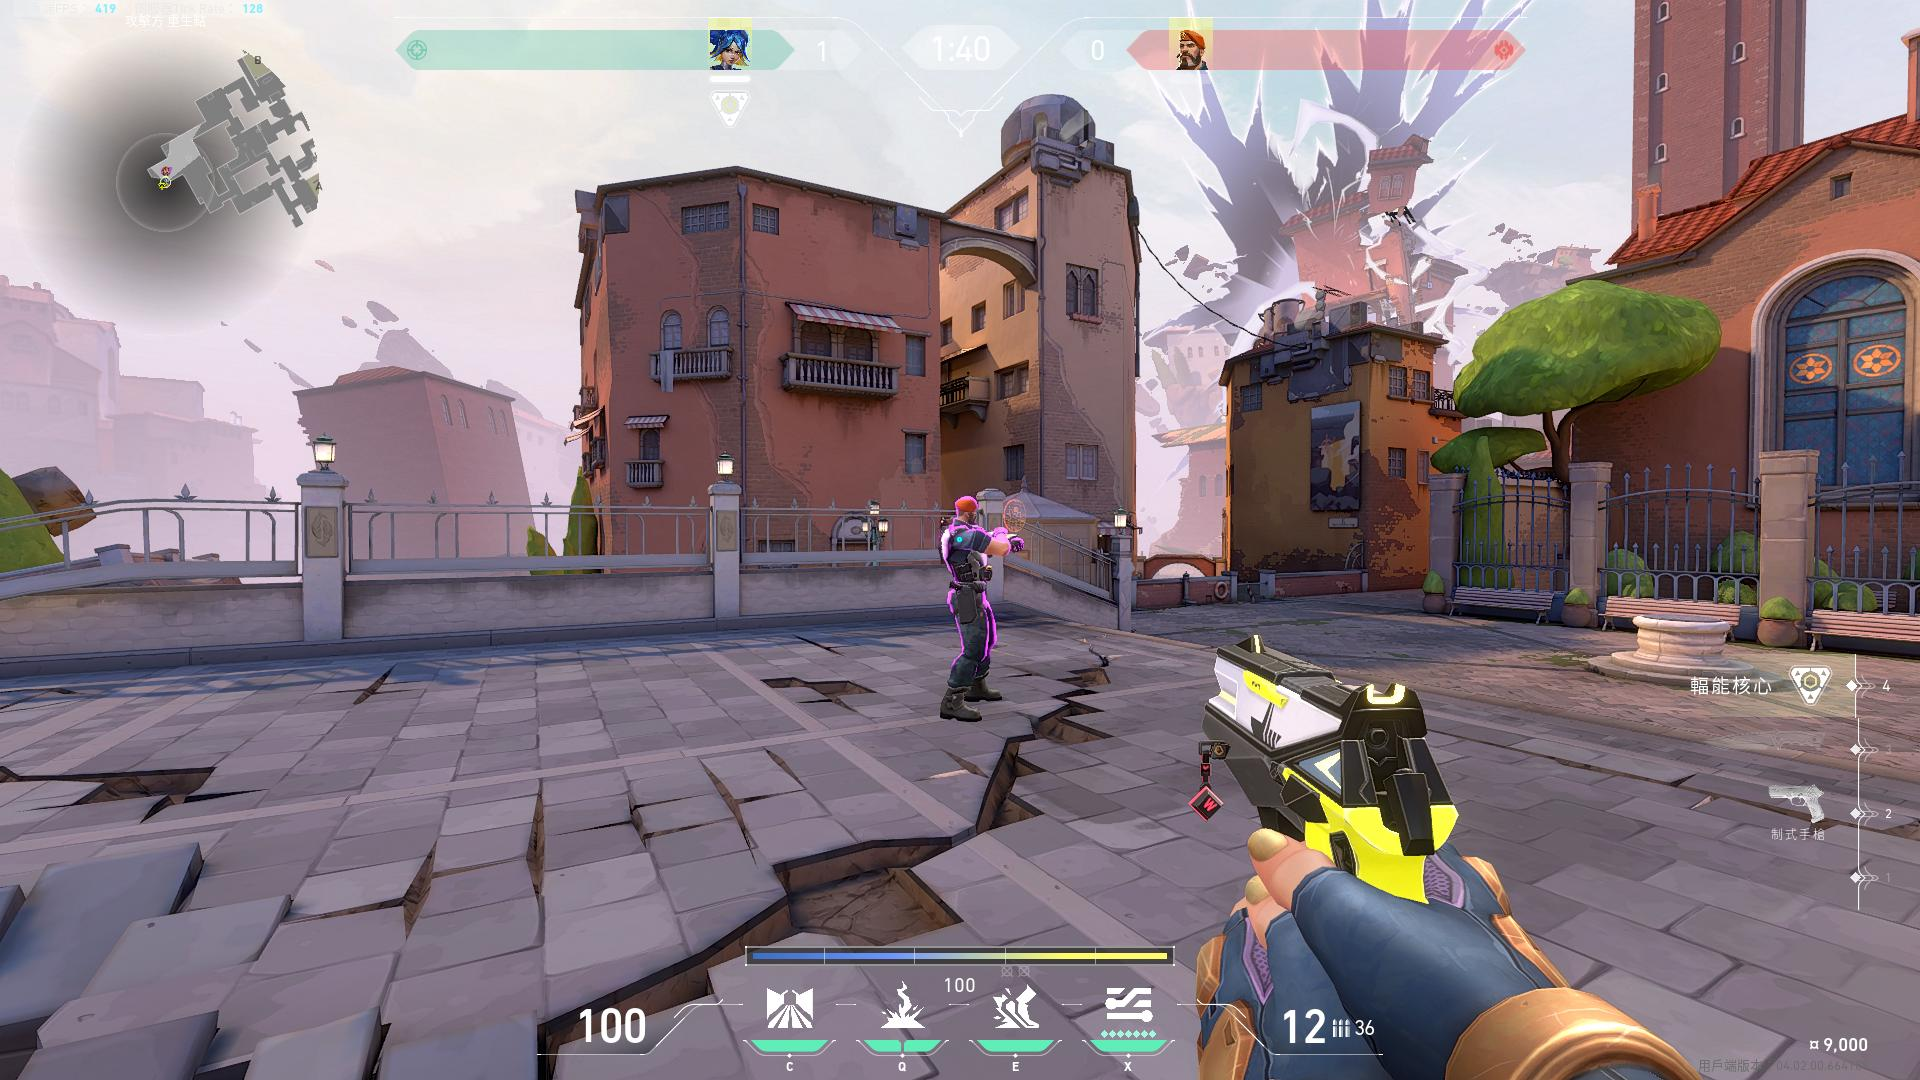enemyBody: (959, 530, 986, 567)
enemyHead: (952, 496, 986, 527)
